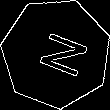N_W: (25, 26, 87, 81)
